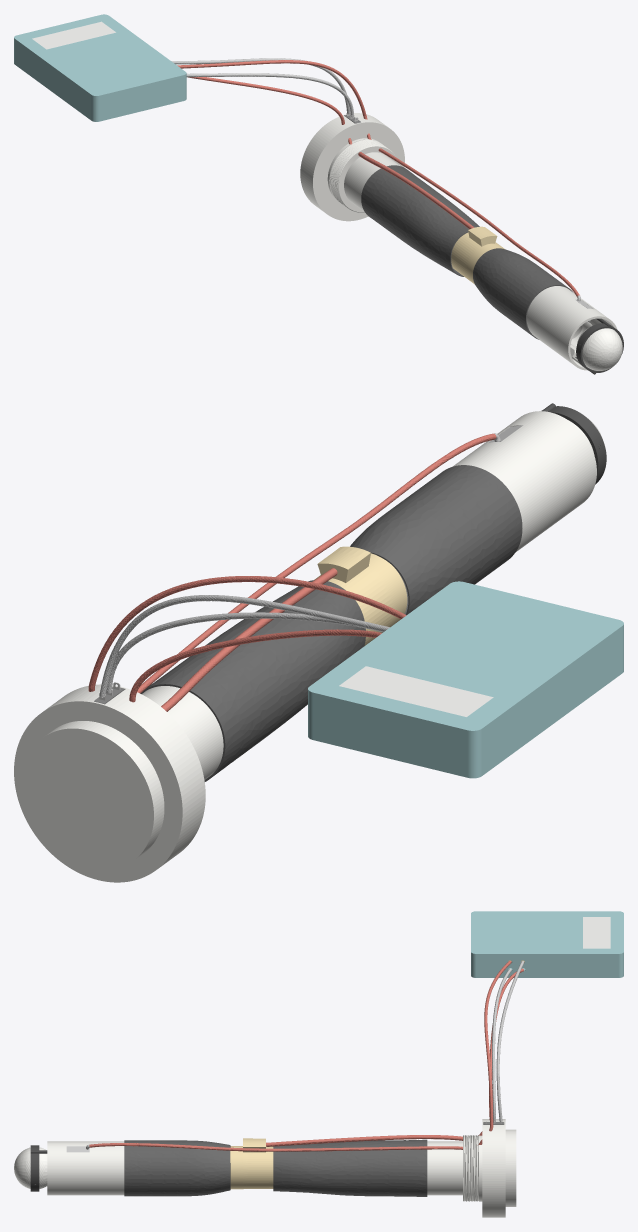
The model's file is Device.glb.
The picture shows the model from 3 angles, top to bottom: view 1: azimuth 30°, elevation 25°; view 2: azimuth 150°, elevation 25°; view 3: azimuth 270°, elevation 25°; orthographic projection. The views are drawn at different scales.
Parts seen in each view (by area): view 1: Node3, Node4, Node12, Node18, Node19, Node2, Node26, Node1; view 2: Node3, Node4, Node12, Node18, Node19, Node2, Node26, Node1; view 3: Node12, Node3, Node4, Node18, Node19, Node2, Node26, Node1.
Boxes of the visible parts, bbox=[...] form: Node3: bbox=[300, 113, 622, 370]; Node4: bbox=[14, 14, 186, 121]; Node12: bbox=[361, 165, 573, 339]; Node18: bbox=[177, 60, 579, 296]; Node19: bbox=[451, 226, 504, 284]; Node2: bbox=[171, 58, 590, 322]; Node26: bbox=[32, 21, 115, 49]; Node1: bbox=[575, 318, 623, 374]; Node3: bbox=[14, 411, 602, 882]; Node4: bbox=[308, 581, 623, 778]; Node12: bbox=[140, 465, 522, 781]; Node18: bbox=[88, 433, 496, 711]; Node19: bbox=[314, 546, 407, 645]; Node2: bbox=[99, 595, 389, 697]; Node26: bbox=[339, 666, 493, 716]; Node1: bbox=[541, 403, 606, 484]; Node12: bbox=[124, 1139, 427, 1196]; Node3: bbox=[14, 1119, 516, 1217]; Node4: bbox=[471, 911, 623, 977]; Node18: bbox=[89, 960, 523, 1151]; Node19: bbox=[230, 1138, 273, 1189]; Node2: bbox=[492, 961, 524, 1122]; Node26: bbox=[583, 917, 610, 948]; Node1: bbox=[30, 1145, 47, 1191].
Size of the model in its own units: 319 by 186 by 574.
